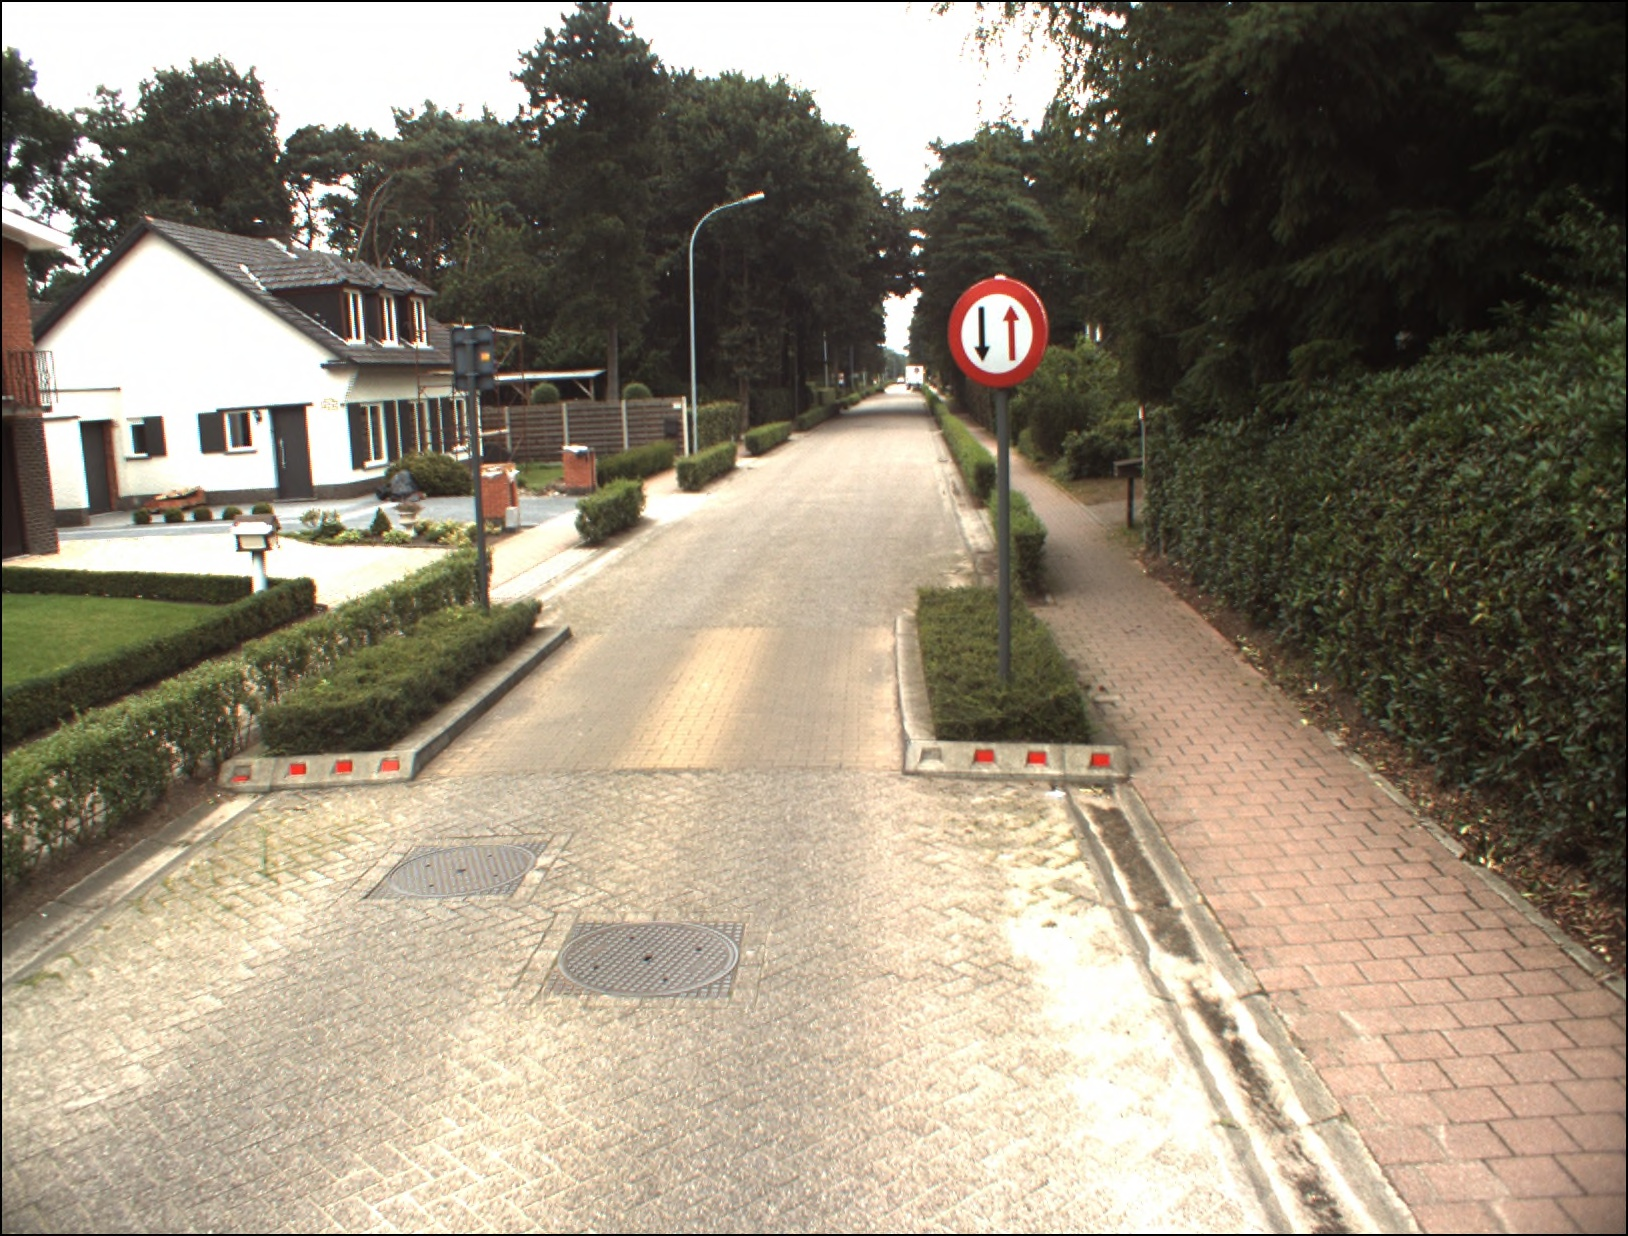roadnarrow2: (944, 275, 1053, 386)
